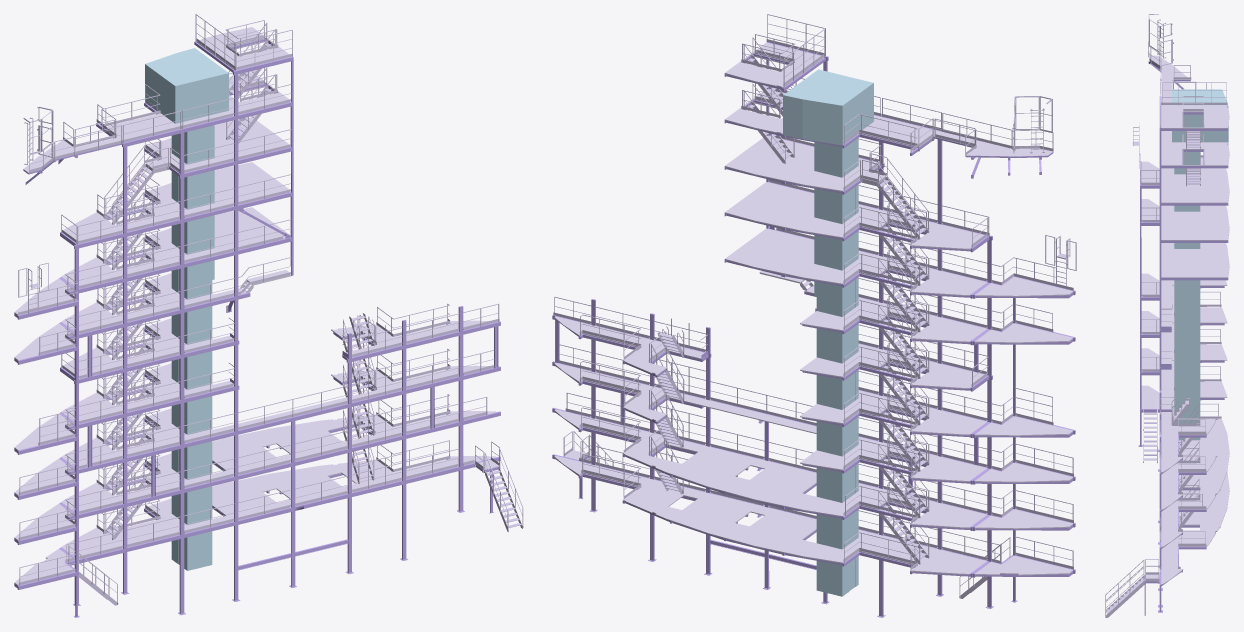
The model's file is HO-Side-C-Platforms-cut3.glb.
3 views of the same model, side by side, from view 1: azimuth 30°, elevation 25°; view 2: azimuth 150°, elevation 25°; view 3: azimuth 270°, elevation 25° (orthographic). The views are drawn at different scales.
Visible parts, largest first — view 1: _0000014394D4CB50_IndexedFaceSet, _0000014394D4C370_IndexedFaceSet, _0000014394D4C220_IndexedFaceSet, _0000014394D4C610_IndexedFaceSet; view 2: _0000014394D4CB50_IndexedFaceSet, _0000014394D4C370_IndexedFaceSet, _0000014394D4C220_IndexedFaceSet, _0000014394D4C610_IndexedFaceSet; view 3: _0000014394D4CB50_IndexedFaceSet, _0000014394D4C370_IndexedFaceSet, _0000014394D4C610_IndexedFaceSet, _0000014394D4C220_IndexedFaceSet.
Part boxes in pixels (x1,y1,x2,y2): _0000014394D4CB50_IndexedFaceSet: (14, 27, 499, 585); _0000014394D4C370_IndexedFaceSet: (18, 14, 523, 605); _0000014394D4C220_IndexedFaceSet: (14, 38, 500, 617); _0000014394D4C610_IndexedFaceSet: (145, 48, 228, 570); _0000014394D4CB50_IndexedFaceSet: (554, 42, 1073, 575); _0000014394D4C370_IndexedFaceSet: (553, 14, 1076, 598); _0000014394D4C220_IndexedFaceSet: (552, 42, 1075, 617); _0000014394D4C610_IndexedFaceSet: (783, 69, 873, 596); _0000014394D4CB50_IndexedFaceSet: (1141, 55, 1229, 584); _0000014394D4C370_IndexedFaceSet: (1105, 14, 1227, 617); _0000014394D4C610_IndexedFaceSet: (1172, 89, 1228, 500); _0000014394D4C220_IndexedFaceSet: (1138, 59, 1228, 615).
Bounding box in the file's own units: 28.74 × 30.9 × 7.56.
